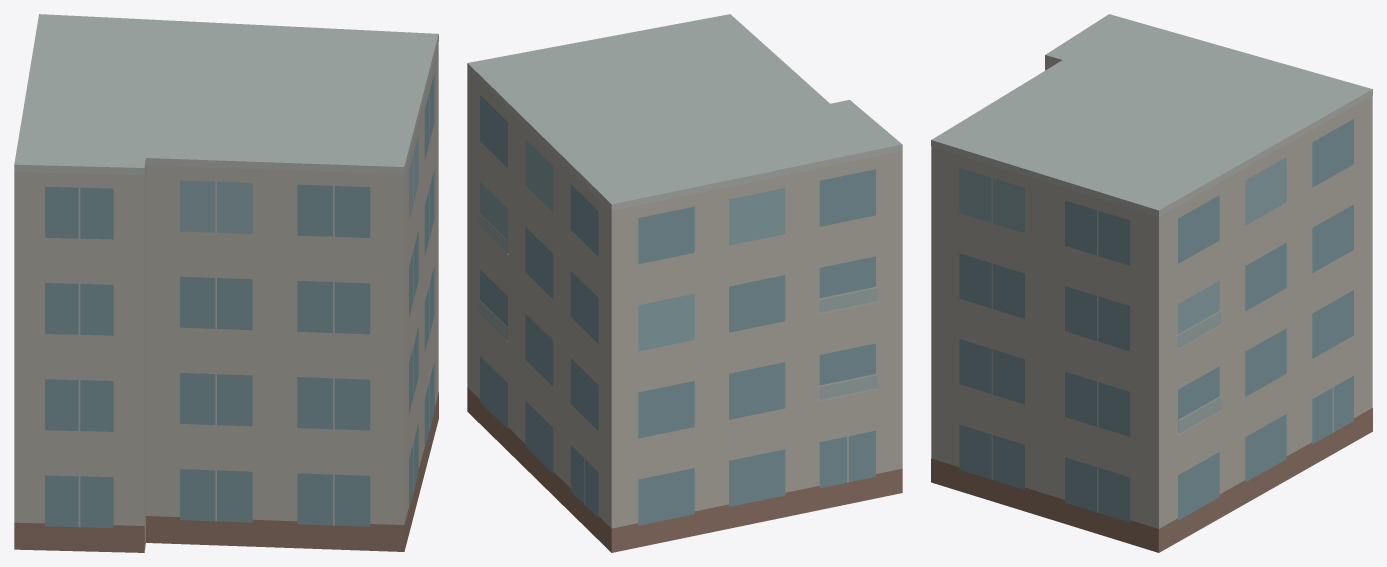
The model's file is survey-upis-32916361.glb.
3 views of the same model, side by side, from view 1: azimuth 30°, elevation 25°; view 2: azimuth 150°, elevation 25°; view 3: azimuth 270°, elevation 25° (orthographic). The views are drawn at different scales.
Parts seen in each view (by area): view 1: survey-upis-32916361.tmp; view 2: survey-upis-32916361.tmp; view 3: survey-upis-32916361.tmp.
Part boxes in pixels (<box>): survey-upis-32916361.tmp: <box>14,14,438,552</box>; survey-upis-32916361.tmp: <box>467,14,902,552</box>; survey-upis-32916361.tmp: <box>931,14,1372,552</box>.
Bounding box in the file's own units: 15.82 × 12.85 × 15.03.
